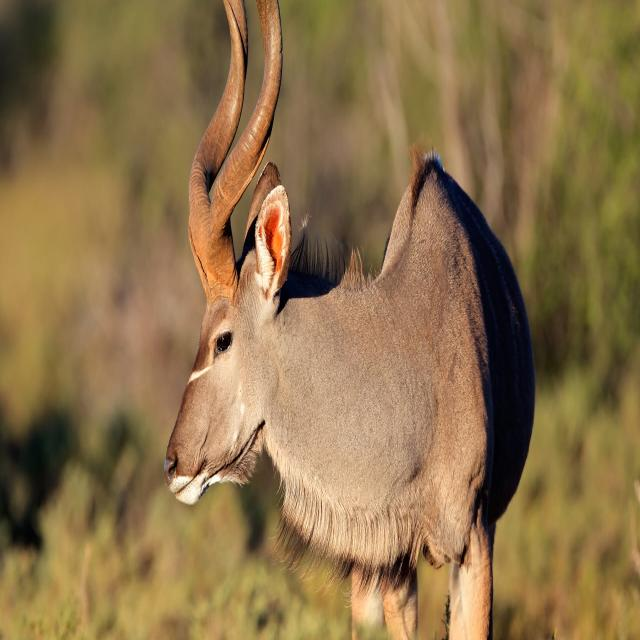Antelope: (165, 2, 537, 640)
